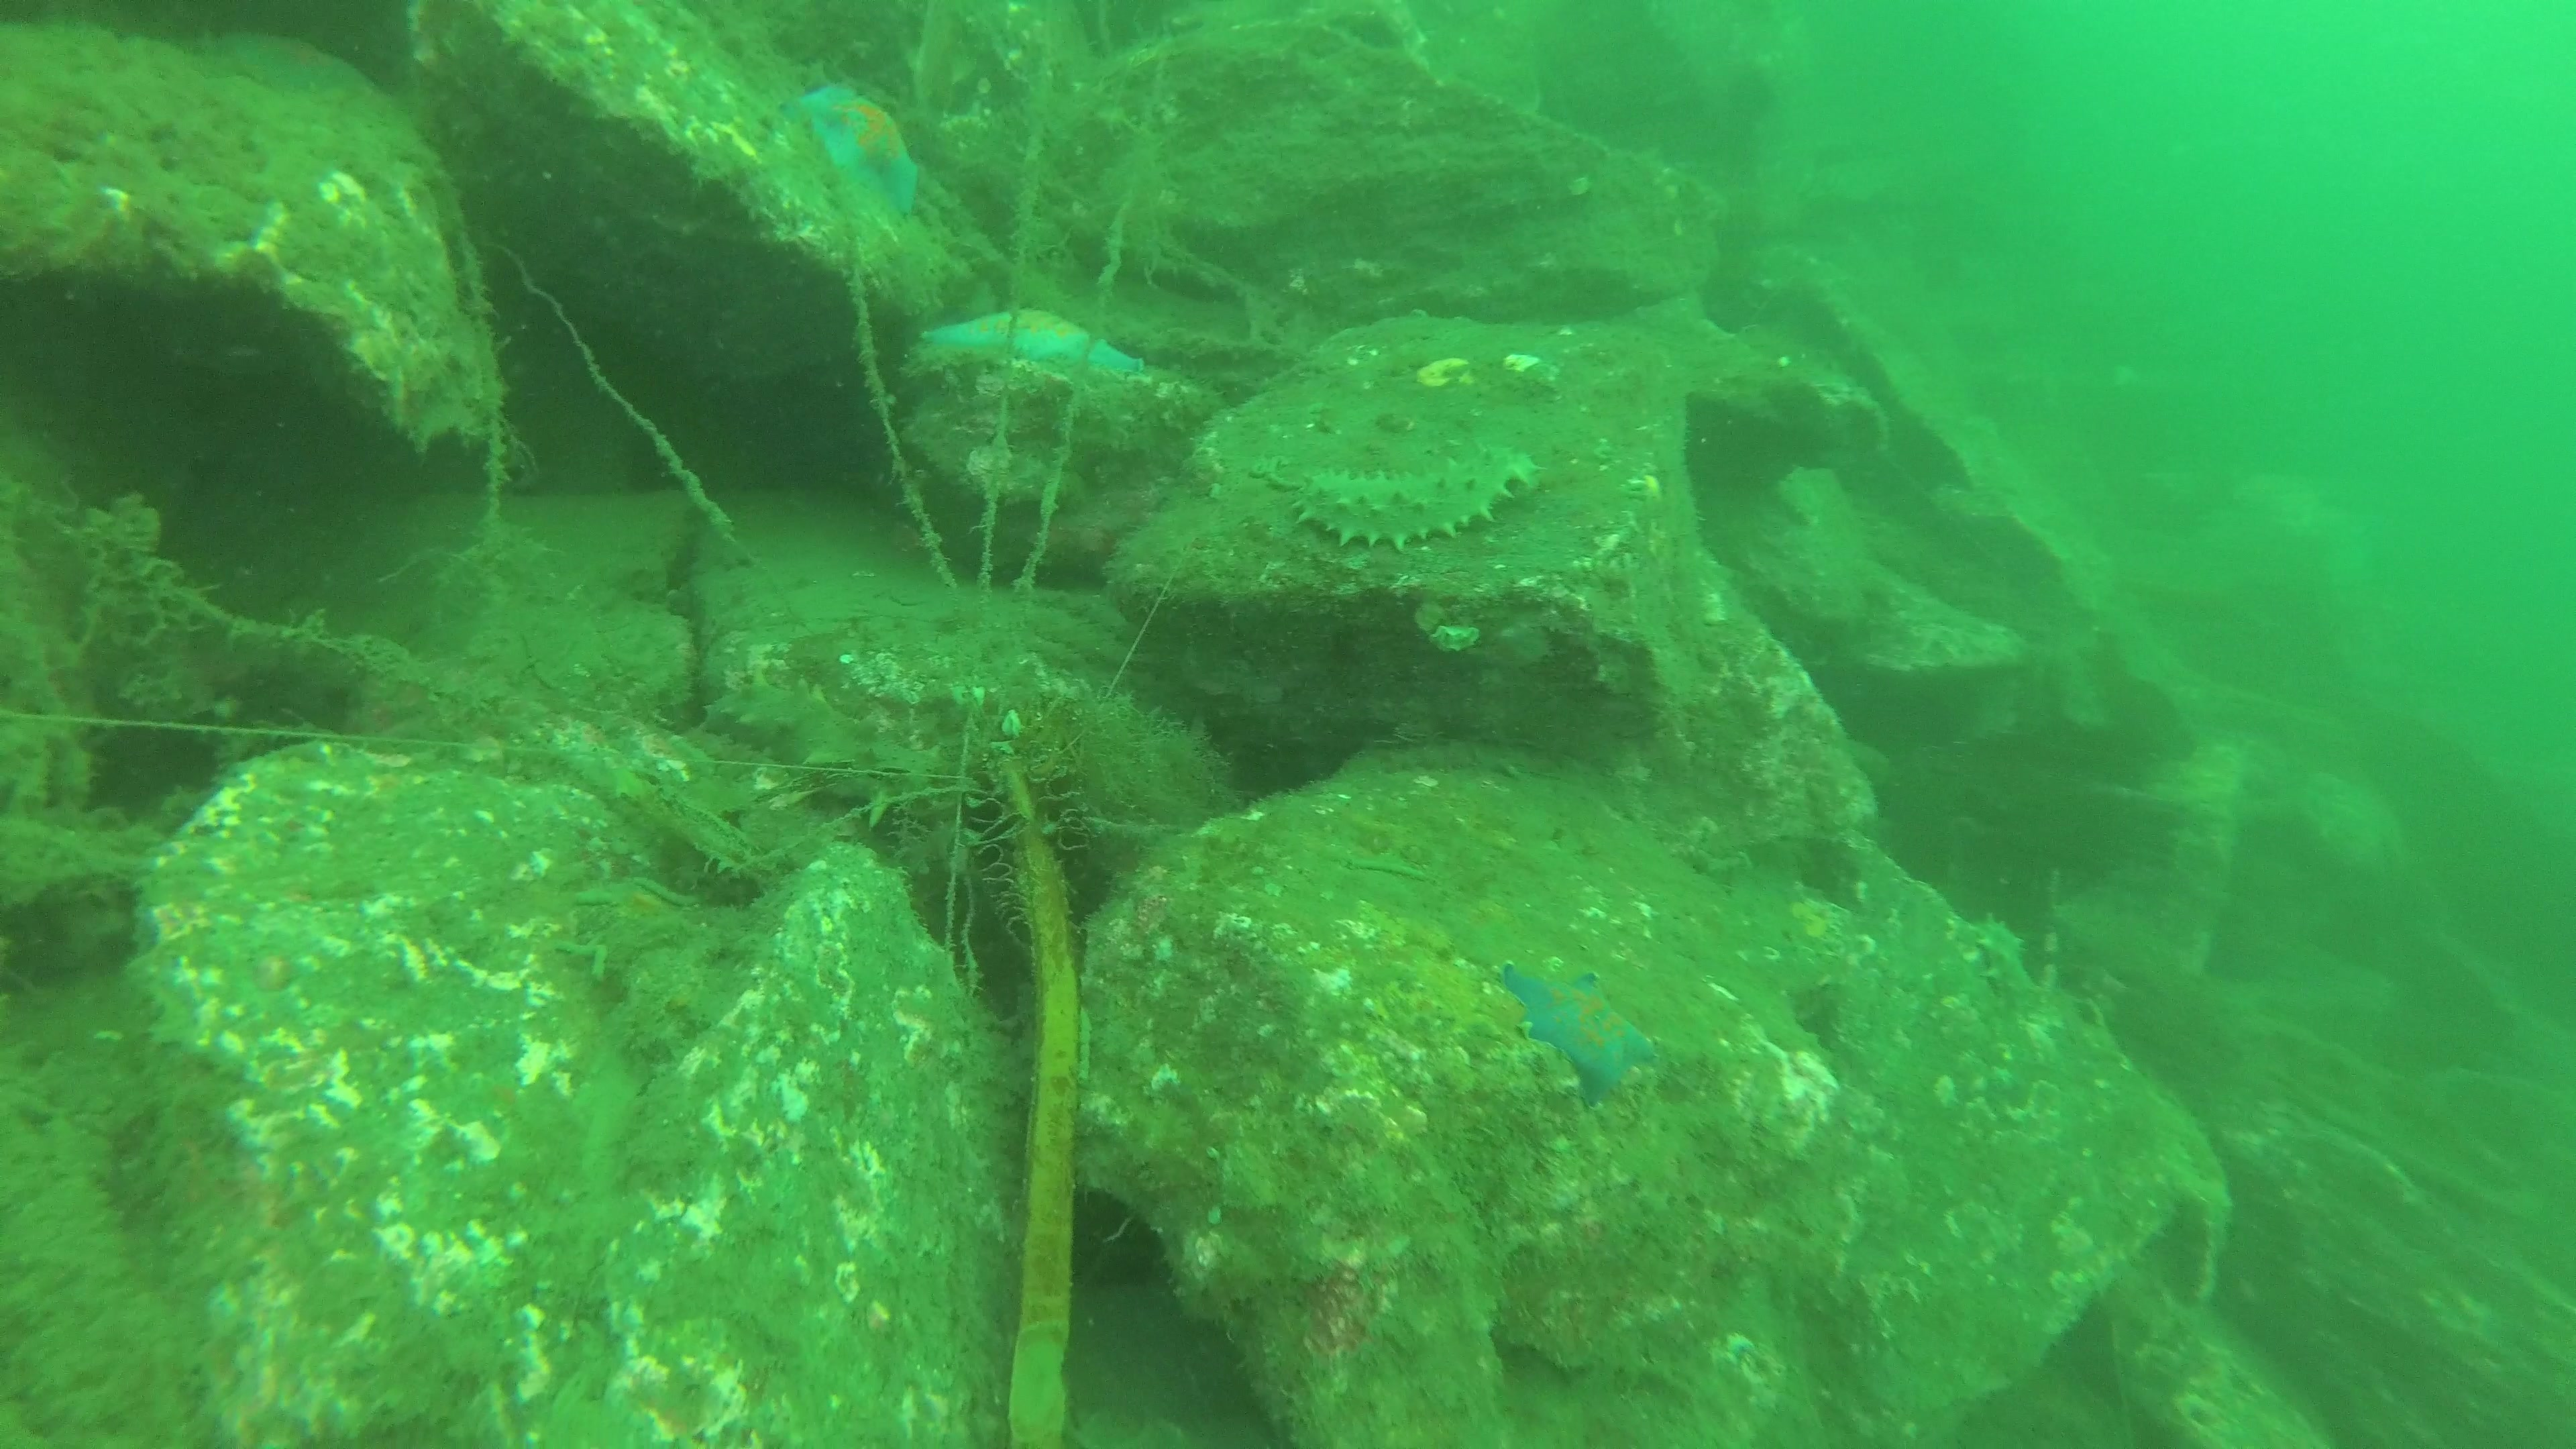holothurian: (699, 667, 932, 835), (1288, 448, 1541, 552)
starfish: (1493, 959, 1660, 1113), (793, 81, 922, 228), (916, 306, 1146, 387)
